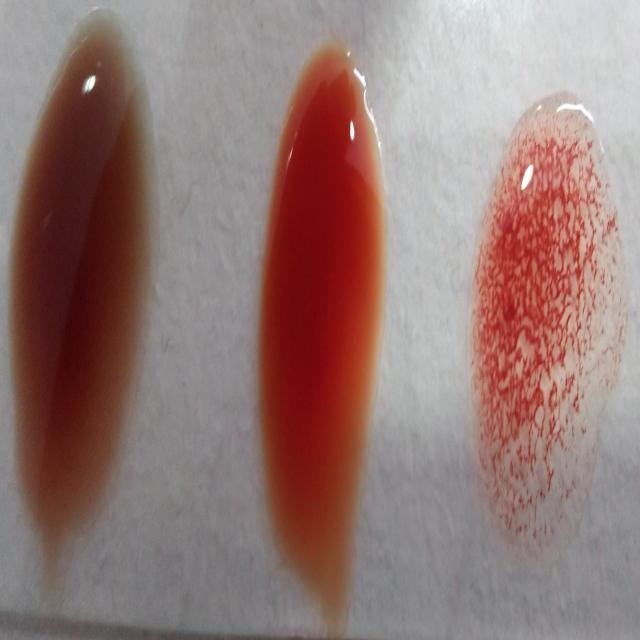D: (472, 104, 619, 562)
